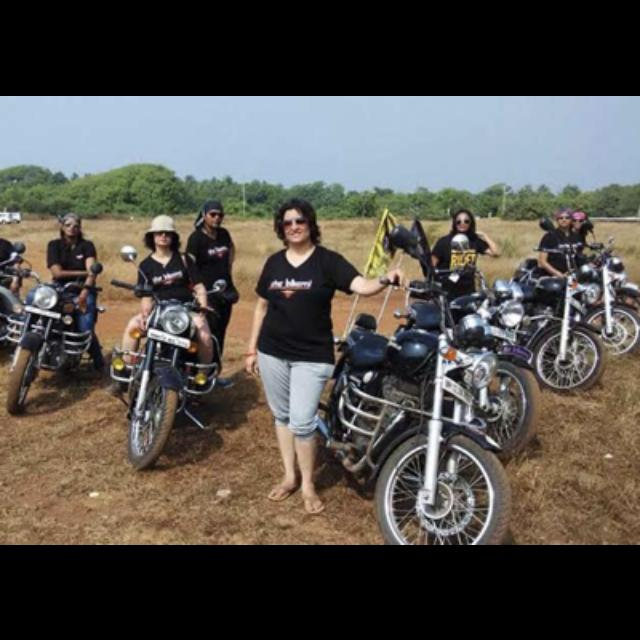Without Helmet: (266, 193, 322, 249), (440, 196, 480, 238), (141, 209, 179, 249), (48, 205, 90, 237), (192, 194, 228, 230), (549, 199, 573, 229)
